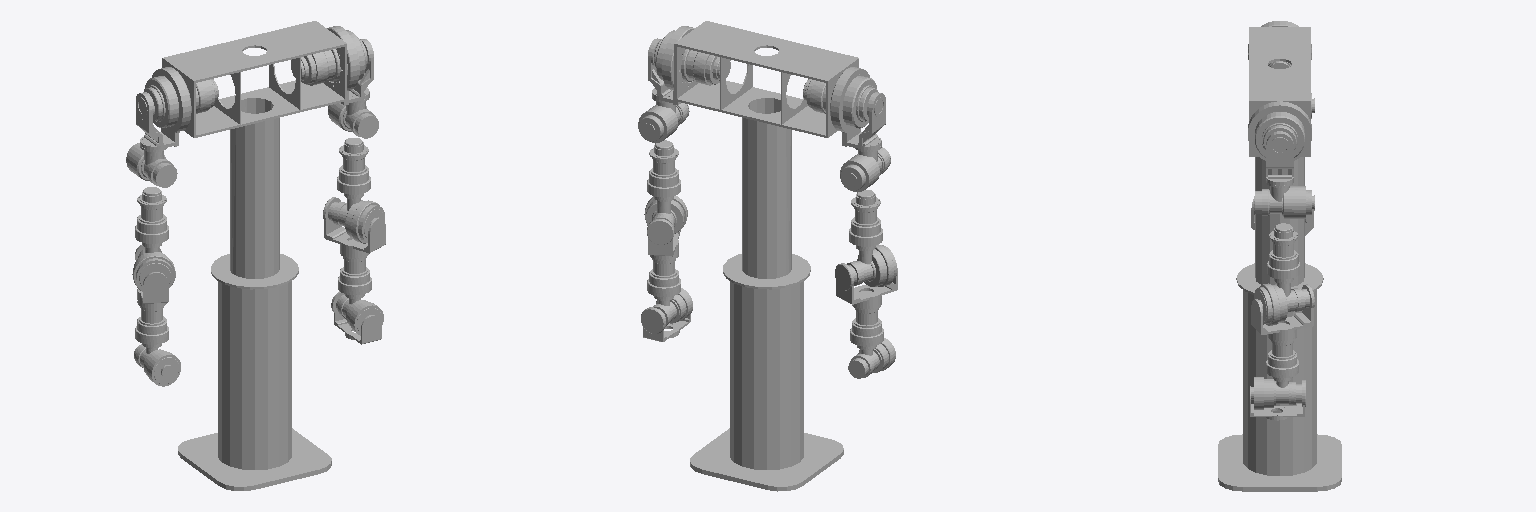
robot.urdf — aidplus:
<robot
  name="aidplus">
  <link name="base_Link">
    <inertial>
      <origin
        xyz="-0.065339 -1.9234E-15 0.93756"
        rpy="0 0 0" />
      <mass
        value="37.032" />
      <inertia
        ixx="14.546"
        ixy="-2.0675E-14"
        ixz="1.736"
        iyy="15.487"
        iyz="5.0978E-14"
        izz="1.5176" />
    </inertial>
    <visual>
      <origin
        xyz="0 0 0"
        rpy="0 0 0" />
      <geometry>
        <mesh
          filename="package://aidplus/meshes/L0.STL" />
      </geometry>
      <material
        name="">
        <color
          rgba="0.752941176470588 0.752941176470588 0.752941176470588 1" />
      </material>
    </visual>
    <collision>
      <origin
        xyz="0 0 0"
        rpy="0 0 0" />
      <geometry>
        <mesh
          filename="package://aidplus/meshes/L0.STL" />
      </geometry>
    </collision>
  </link>
  <link
    name="left_bigarm_Link">
    <inertial>
      <origin
        xyz="0.01517 -0.19923 -0.016519"
        rpy="0 0 0" />
      <mass
        value="38.9" />
      <inertia
        ixx="0.69607"
        ixy="-0.10626"
        ixz="-0.0097479"
        iyy="0.23375"
        iyz="-0.048863"
        izz="0.59973" />
    </inertial>
    <visual>
      <origin
        xyz="0 0 0"
        rpy="0 0 0" />
      <geometry>
        <mesh
          filename="package://aidplus/meshes/LL1.STL" />
      </geometry>
      <material
        name="">
        <color
          rgba="0.752941176470588 0.752941176470588 0.752941176470588 1" />
      </material>
    </visual>
    <collision>
      <origin
        xyz="0 0 0"
        rpy="0 0 0" />
      <geometry>
        <mesh
          filename="package://aidplus/meshes/LL1.STL" />
      </geometry>
    </collision>
  </link>
  <joint
    name="left_shoulder_joint"
    type="revolute">
    <origin
      xyz="-0.4605 0 1.655"
      rpy="1.5708 0 0" />
    <parent
      link="base_Link" />
    <child
      link="left_bigarm_Link" />
    <axis
      xyz="1 0 0" />
    <limit
      lower="-3.14159"
      upper="3.14159"
      effort="200"
      velocity="3.1416" />
  </joint>
  <link
    name="left_elbow_Link">
    <inertial>
      <origin
        xyz="1.6653E-16 -0.064421 0.015667"
        rpy="0 0 0" />
      <mass
        value="11.18" />
      <inertia
        ixx="0.14822"
        ixy="8.3834E-17"
        ixz="7.8495E-18"
        iyy="0.12818"
        iyz="-0.012852"
        izz="0.044066" />
    </inertial>
    <visual>
      <origin
        xyz="0 0 0"
        rpy="0 0 0" />
      <geometry>
        <mesh
          filename="package://aidplus/meshes/LL2.STL" />
      </geometry>
      <material
        name="">
        <color
          rgba="0.752941176470588 0.752941176470588 0.752941176470588 1" />
      </material>
    </visual>
    <collision>
      <origin
        xyz="0 0 0"
        rpy="0 0 0" />
      <geometry>
        <mesh
          filename="package://aidplus/meshes/LL2.STL" />
      </geometry>
    </collision>
  </link>
  <joint
    name="left_bigarm_joint"
    type="revolute">
    <origin
      xyz="0 -0.275 -0.015"
      rpy="0 0 0" />
    <parent
      link="left_bigarm_Link" />
    <child
      link="left_elbow_Link" />
    <axis
      xyz="0 0 1" />
    <limit
      lower="-3.14159"
      upper="3.14159"
      effort="200"
      velocity="3.1416" />
  </joint>
  <link
    name="left_forearm_Link">
    <inertial>
      <origin
        xyz="0.0061768 0.014912 0.020282"
        rpy="0 0 0" />
      <mass
        value="16.17" />
      <inertia
        ixx="0.232059974154934"
        ixy="-0.005837242059444"
        ixz="-0.008987732435557"
        iyy="0.220384023668639"
        iyz="-0.021698571720057"
        izz="0.049915146568727" />
    </inertial>
    <visual>
      <origin
        xyz="0 0 0"
        rpy="0 0 0" />
      <geometry>
        <mesh
          filename="package://aidplus/meshes/LL3.STL" />
      </geometry>
      <material
        name="">
        <color
          rgba="0.752941176470588 0.752941176470588 0.752941176470588 1" />
      </material>
    </visual>
    <collision>
      <origin
        xyz="0 0 0"
        rpy="0 0 0" />
      <geometry>
        <mesh
          filename="package://aidplus/meshes/LL3.STL" />
      </geometry>
    </collision>
  </link>
  <joint
    name="left_elbow_joint"
    type="revolute">
    <origin
      xyz="0 -0.332 0"
      rpy="1.5707963267949 -0.78539816339746 0" />
    <parent
      link="left_elbow_Link" />
    <child
      link="left_forearm_Link" />
    <axis
      xyz="0 0 -1" />
    <limit
      lower="-3.14159"
      upper="3.14159"
      effort="200"
      velocity="3.1416" />
  </joint>
  <link
    name="left_wrist1_Link">
    <inertial>
      <origin
        xyz="-3.3307E-15 -0.071299 -0.012584"
        rpy="0 0 0" />
      <mass
        value="10.14" />
      <inertia
        ixx="0.10127"
        ixy="1.077E-15"
        ixz="-2.5356E-15"
        iyy="0.08693"
        iyz="0.010069"
        izz="0.034066" />
    </inertial>
    <visual>
      <origin
        xyz="0 0 0"
        rpy="0 0 0" />
      <geometry>
        <mesh
          filename="package://aidplus/meshes/LL4.STL" />
      </geometry>
      <material
        name="">
        <color
          rgba="0.752941176470588 0.752941176470588 0.752941176470588 1" />
      </material>
    </visual>
    <collision>
      <origin
        xyz="0 0 0"
        rpy="0 0 0" />
      <geometry>
        <mesh
          filename="package://aidplus/meshes/LL4.STL" />
      </geometry>
    </collision>
  </link>
  <joint
    name="left_wrist1_joint"
    type="revolute">
    <origin
      xyz="0.0019134 0.0046194 0.11"
      rpy="-1.5708 0 -0.3927" />
    <parent
      link="left_forearm_Link" />
    <child
      link="left_wrist1_Link" />
    <axis
      xyz="0 0 1" />
    <limit
      lower="-3.14159"
      upper="3.14159"
      effort="200"
      velocity="3.1416" />
  </joint>
  <link
    name="left_wrist2_Link">
    <inertial>
      <origin
        xyz="0.0071606 -0.17208 0.017287"
        rpy="0 0 0" />
      <mass
        value="10.91" />
      <inertia
        ixx="0.124071088191495"
        ixy="0.006790844685897"
        ixz="-0.005624086647179"
        iyy="0.033104277204787"
        iyz="0.016394484860184"
        izz="0.112821711433457" />
    </inertial>
    <visual>
      <origin
        xyz="0 0 0"
        rpy="0 0 0" />
      <geometry>
        <mesh
          filename="package://aidplus/meshes/LL5.STL" />
      </geometry>
      <material
        name="">
        <color
          rgba="0.752941176470588 0.752941176470588 0.752941176470588 1" />
      </material>
    </visual>
    <collision>
      <origin
        xyz="0 0 0"
        rpy="0 0 0" />
      <geometry>
        <mesh
          filename="package://aidplus/meshes/LL5.STL" />
      </geometry>
    </collision>
  </link>
  <joint
    name="left_wrist2_joint"
    type="revolute">
    <origin
      xyz="0 -0.145 0"
      rpy="0 -8.6098E-14 0" />
    <parent
      link="left_wrist1_Link" />
    <child
      link="left_wrist2_Link" />
    <axis
      xyz="0 1 0" />
    <limit
      lower="-3.14159"
      upper="3.14159"
      effort="200"
      velocity="3.1416" />
  </joint>
  <link
    name="left_palm_Link">
    <inertial>
      <origin
        xyz="-0.024868 -0.0455 -4.6629E-15"
        rpy="0 0 0" />
      <mass
        value="5.91" />
      <inertia
        ixx="0.014677242234883"
        ixy="0.006892601314097"
        ixz="-8.11009281382099E-15"
        iyy="0.050065553207131"
        iyz="-4.66386004410954E-15"
        izz="0.05589707544569" />
    </inertial>
    <visual>
      <origin
        xyz="0 0 0"
        rpy="0 0 0" />
      <geometry>
        <mesh
          filename="package://aidplus/meshes/LL6.STL" />
      </geometry>
      <material
        name="">
        <color
          rgba="0.752941176470588 0.752941176470588 0.752941176470588 1" />
      </material>
    </visual>
    <collision>
      <origin
        xyz="0 0 0"
        rpy="0 0 0" />
      <geometry>
        <mesh
          filename="package://aidplus/meshes/LL6.STL" />
      </geometry>
    </collision>
  </link>
  <joint
    name="left_palm_joint"
    type="revolute">
    <origin
      xyz="0.0082277 -0.259 0.019863"
      rpy="0 -1.1781 0" />
    <parent
      link="left_wrist2_Link" />
    <child
      link="left_palm_Link" />
    <axis
      xyz="1 0 0" />
    <limit
      lower="-3.14159"
      upper="3.14159"
      effort="200"
      velocity="3.1416" />
  </joint>
  <link
    name="right_bigarm_Link">
    <inertial>
      <origin
        xyz="0.01517 -0.19923 -0.016519"
        rpy="0 0 0" />
      <mass
        value="38.9" />
      <inertia
        ixx="0.69607"
        ixy="-0.10626"
        ixz="-0.0097479"
        iyy="0.23375"
        iyz="-0.048863"
        izz="0.59973" />
    </inertial>
    <visual>
      <origin
        xyz="0 0 0"
        rpy="0 0 0" />
      <geometry>
        <mesh
          filename="package://aidplus/meshes/LR1.STL" />
      </geometry>
      <material
        name="">
        <color
          rgba="0.752941176470588 0.752941176470588 0.752941176470588 1" />
      </material>
    </visual>
    <collision>
      <origin
        xyz="0 0 0"
        rpy="0 0 0" />
      <geometry>
        <mesh
          filename="package://aidplus/meshes/LR1.STL" />
      </geometry>
    </collision>
  </link>
  <joint
    name="right_shoulder_joint"
    type="revolute">
    <origin
      xyz="0.4605 0 1.655"
      rpy="1.5708 0 3.1416" />
    <parent
      link="base_Link" />
    <child
      link="right_bigarm_Link" />
    <axis
      xyz="-1 0 0" />
    <limit
      lower="-3.14159"
      upper="3.14159"
      effort="200"
      velocity="3.1416" />
  </joint>
  <link
    name="right_elbow_Link">
    <inertial>
      <origin
        xyz="1.6653E-16 -0.064421 0.015667"
        rpy="0 0 0" />
      <mass
        value="11.18" />
      <inertia
        ixx="0.14822"
        ixy="8.3834E-17"
        ixz="7.8495E-18"
        iyy="0.12818"
        iyz="-0.012852"
        izz="0.044066" />
    </inertial>
    <visual>
      <origin
        xyz="0 0 0"
        rpy="0 0 0" />
      <geometry>
        <mesh
          filename="package://aidplus/meshes/LR2.STL" />
      </geometry>
      <material
        name="">
        <color
          rgba="0.752941176470588 0.752941176470588 0.752941176470588 1" />
      </material>
    </visual>
    <collision>
      <origin
        xyz="0 0 0"
        rpy="0 0 0" />
      <geometry>
        <mesh
          filename="package://aidplus/meshes/LR2.STL" />
      </geometry>
    </collision>
  </link>
  <joint
    name="right_bigarm_joint"
    type="revolute">
    <origin
      xyz="0 -0.275 0.015"
      rpy="3.1416 0 3.1416" />
    <parent
      link="right_bigarm_Link" />
    <child
      link="right_elbow_Link" />
    <axis
      xyz="0 0 1" />
    <limit
      lower="-3.14159"
      upper="3.14159"
      effort="200"
      velocity="3.1416" />
  </joint>
  <link
    name="right_forearm_Link">
    <inertial>
      <origin
        xyz="0.0061768 0.014912 0.020282"
        rpy="0 0 0" />
      <mass
        value="16.17" />
      <inertia
        ixx="0.232059974154934"
        ixy="-0.005837242059444"
        ixz="-0.008987732435557"
        iyy="0.220384023668639"
        iyz="-0.021698571720057"
        izz="0.049915146568727" />
    </inertial>
    <visual>
      <origin
        xyz="0 0 0"
        rpy="0 0 0" />
      <geometry>
        <mesh
          filename="package://aidplus/meshes/LR3.STL" />
      </geometry>
      <material
        name="">
        <color
          rgba="0.752941176470588 0.752941176470588 0.752941176470588 1" />
      </material>
    </visual>
    <collision>
      <origin
        xyz="0 0 0"
        rpy="0 0 0" />
      <geometry>
        <mesh
          filename="package://aidplus/meshes/LR3.STL" />
      </geometry>
    </collision>
  </link>
  <joint
    name="right_elbow_joint"
    type="revolute">
    <origin
      xyz="0 -0.332 0"
      rpy="-1.5708 -0.7854 3.1416" />
    <parent
      link="right_elbow_Link" />
    <child
      link="right_forearm_Link" />
    <axis
      xyz="0 0 -1" />
    <limit
      lower="-3.14159"
      upper="3.14159"
      effort="200"
      velocity="3.1416" />
  </joint>
  <link
    name="right_wrist1_Link">
    <inertial>
      <origin
        xyz="-3.3307E-15 -0.071299 -0.012584"
        rpy="0 0 0" />
      <mass
        value="10.14" />
      <inertia
        ixx="0.10127"
        ixy="1.077E-15"
        ixz="-2.5356E-15"
        iyy="0.08693"
        iyz="0.010069"
        izz="0.034066" />
    </inertial>
    <visual>
      <origin
        xyz="0 0 0"
        rpy="0 0 0" />
      <geometry>
        <mesh
          filename="package://aidplus/meshes/LR4.STL" />
      </geometry>
      <material
        name="">
        <color
          rgba="0.752941176470588 0.752941176470588 0.752941176470588 1" />
      </material>
    </visual>
    <collision>
      <origin
        xyz="0 0 0"
        rpy="0 0 0" />
      <geometry>
        <mesh
          filename="package://aidplus/meshes/LR4.STL" />
      </geometry>
    </collision>
  </link>
  <joint
    name="right_wrist1_joint"
    type="revolute">
    <origin
      xyz="0.0019134 -0.0046194 0.11"
      rpy="-1.5708 0 -2.7489" />
    <parent
      link="right_forearm_Link" />
    <child
      link="right_wrist1_Link" />
    <axis
      xyz="0 0 1" />
    <limit
      lower="-3.14159"
      upper="3.14159"
      effort="200"
      velocity="3.1416" />
  </joint>
  <link
    name="right_wrist2_Link">
    <inertial>
      <origin
        xyz="0.0071606 -0.17208 0.017287"
        rpy="0 0 0" />
      <mass
        value="10.91" />
      <inertia
        ixx="0.124071088191495"
        ixy="0.006790844685897"
        ixz="-0.005624086647179"
        iyy="0.033104277204787"
        iyz="0.016394484860184"
        izz="0.112821711433457" />
    </inertial>
    <visual>
      <origin
        xyz="0 0 0"
        rpy="0 0 0" />
      <geometry>
        <mesh
          filename="package://aidplus/meshes/LR5.STL" />
      </geometry>
      <material
        name="">
        <color
          rgba="0.752941176470588 0.752941176470588 0.752941176470588 1" />
      </material>
    </visual>
    <collision>
      <origin
        xyz="0 0 0"
        rpy="0 0 0" />
      <geometry>
        <mesh
          filename="package://aidplus/meshes/LR5.STL" />
      </geometry>
    </collision>
  </link>
  <joint
    name="right_wrist2_joint"
    type="revolute">
    <origin
      xyz="0 -0.145 0"
      rpy="0 8.6098E-14 0" />
    <parent
      link="right_wrist1_Link" />
    <child
      link="right_wrist2_Link" />
    <axis
      xyz="0 1 0" />
    <limit
      lower="-3.14159"
      upper="3.14159"
      effort="200"
      velocity="3.1416" />
  </joint>
  <link
    name="right_palm_Link">
    <inertial>
      <origin
        xyz="-0.024868 -0.0455 -4.6629E-15"
        rpy="0 0 0" />
      <mass
        value="5.91" />
      <inertia
        ixx="0.014677242234883"
        ixy="0.006892601314097"
        ixz="-8.11009281382099E-15"
        iyy="0.050065553207131"
        iyz="-4.66386004410954E-15"
        izz="0.05589707544569" />
    </inertial>
    <visual>
      <origin
        xyz="0 0 0"
        rpy="0 0 0" />
      <geometry>
        <mesh
          filename="package://aidplus/meshes/LR6.STL" />
      </geometry>
      <material
        name="">
        <color
          rgba="0.752941176470588 0.752941176470588 0.752941176470588 1" />
      </material>
    </visual>
    <collision>
      <origin
        xyz="0 0 0"
        rpy="0 0 0" />
      <geometry>
        <mesh
          filename="package://aidplus/meshes/LR6.STL" />
      </geometry>
    </collision>
  </link>
  <joint
    name="right_palm_joint"
    type="revolute">
    <origin
      xyz="-0.0082277 -0.259 0.019863"
      rpy="3.1416 -1.1781 3.1416" />
    <parent
      link="right_wrist2_Link" />
    <child
      link="right_palm_Link" />
    <axis
      xyz="1 0 0" />
    <limit
      lower="-3.14159"
      upper="3.14159"
      effort="200"
      velocity="3.1416" />
  </joint>
  <link name="world"/>
  <joint
    name="virtual_robot_mount_joint"
    type="fixed">
    <origin
      xyz="0.00 0.0 0.0"
      rpy="0 0 0" />
    <parent
      link="world" />
    <child
      link="base_Link" />
  </joint>

  <link name="left_ee_Link"/>
  <joint
    name="virtual_left_ee_mount_joint"
    type="fixed">
    <origin
      xyz="0.00 -0.097 0.0"
      rpy="0 0 0" />
    <parent
      link="left_palm_Link" />
    <child
      link="left_ee_Link" />
  </joint>
  <link name="right_ee_Link"/>
  <joint
    name="virtual_right_ee_mount_joint"
    type="fixed">
    <origin
      xyz="0.00 -0.097 0.0"
      rpy="0 0 0" />
    <parent
      link="right_palm_Link" />
    <child
      link="right_ee_Link" />
  </joint>
  <!--////////////////////////////////// Transmissions for ROS Control //////////////////////////-->
  <transmission name="left_shoulder_joint_trans">
    <type>transmission_interface/SimpleTransmission</type>
    <joint name="left_shoulder_joint">
      <hardwareInterface>hardware_interface/PositionJointInterface</hardwareInterface>
    </joint>
    <actuator name="left_shoulder_joint_motor">
      <mechanicalReduction>1</mechanicalReduction>
    </actuator>
  </transmission>
  <transmission name="left_bigarm_joint_trans">
    <type>transmission_interface/SimpleTransmission</type>
    <joint name="left_bigarm_joint">
      <hardwareInterface>hardware_interface/PositionJointInterface</hardwareInterface>
    </joint>
    <actuator name="left_bigarm_joint_motor">
      <mechanicalReduction>1</mechanicalReduction>
    </actuator>
  </transmission>
  <transmission name="left_elbow_joint_trans">
    <type>transmission_interface/SimpleTransmission</type>
    <joint name="left_elbow_joint">
      <hardwareInterface>hardware_interface/PositionJointInterface</hardwareInterface>
    </joint>
    <actuator name="left_elbow_joint_motor">
      <mechanicalReduction>1</mechanicalReduction>
    </actuator>
  </transmission>
  <transmission name="left_wrist1_joint_trans">
    <type>transmission_interface/SimpleTransmission</type>
    <joint name="left_wrist1_joint">
      <hardwareInterface>hardware_interface/PositionJointInterface</hardwareInterface>
    </joint>
    <actuator name="left_wrist1_joint_motor">
      <mechanicalReduction>1</mechanicalReduction>
    </actuator>
  </transmission>
  <transmission name="left_wrist2_joint_trans">
    <type>transmission_interface/SimpleTransmission</type>
    <joint name="left_wrist2_joint">
      <hardwareInterface>hardware_interface/PositionJointInterface</hardwareInterface>
    </joint>
    <actuator name="left_wrist2_joint_motor">
      <mechanicalReduction>1</mechanicalReduction>
    </actuator>
  </transmission>
  <transmission name="left_palm_joint_trans">
    <type>transmission_interface/SimpleTransmission</type>
    <joint name="left_palm_joint">
      <hardwareInterface>hardware_interface/PositionJointInterface</hardwareInterface>
    </joint>
    <actuator name="left_palm_joint_motor">
      <mechanicalReduction>1</mechanicalReduction>
    </actuator>
  </transmission>

<transmission name="right_shoulder_joint_trans">
    <type>transmission_interface/SimpleTransmission</type>
    <joint name="right_shoulder_joint">
      <hardwareInterface>hardware_interface/PositionJointInterface</hardwareInterface>
    </joint>
    <actuator name="right_shoulder_joint_motor">
      <mechanicalReduction>1</mechanicalReduction>
    </actuator>
  </transmission>
  <transmission name="right_bigarm_joint_trans">
    <type>transmission_interface/SimpleTransmission</type>
    <joint name="right_bigarm_joint">
      <hardwareInterface>hardware_interface/PositionJointInterface</hardwareInterface>
    </joint>
    <actuator name="right_bigarm_joint_motor">
      <mechanicalReduction>1</mechanicalReduction>
    </actuator>
  </transmission>
  <transmission name="right_elbow_joint_trans">
    <type>transmission_interface/SimpleTransmission</type>
    <joint name="right_elbow_joint">
      <hardwareInterface>hardware_interface/PositionJointInterface</hardwareInterface>
    </joint>
    <actuator name="right_elbow_joint_motor">
      <mechanicalReduction>1</mechanicalReduction>
    </actuator>
  </transmission>
  <transmission name="right_wrist1_joint_trans">
    <type>transmission_interface/SimpleTransmission</type>
    <joint name="right_wrist1_joint">
      <hardwareInterface>hardware_interface/PositionJointInterface</hardwareInterface>
    </joint>
    <actuator name="right_wrist1_joint_motor">
      <mechanicalReduction>1</mechanicalReduction>
    </actuator>
  </transmission>
  <transmission name="right_wrist2_joint_trans">
    <type>transmission_interface/SimpleTransmission</type>
    <joint name="right_wrist2_joint">
      <hardwareInterface>hardware_interface/PositionJointInterface</hardwareInterface>
    </joint>
    <actuator name="right_wrist2_joint_motor">
      <mechanicalReduction>1</mechanicalReduction>
    </actuator>
  </transmission>
  <transmission name="right_palm_joint_trans">
    <type>transmission_interface/SimpleTransmission</type>
    <joint name="right_palm_joint">
      <hardwareInterface>hardware_interface/PositionJointInterface</hardwareInterface>
    </joint>
    <actuator name="right_palm_joint_motor">
      <mechanicalReduction>1</mechanicalReduction>
    </actuator>
  </transmission>

  <!-- ros_control plugin -->
  <gazebo>
    <plugin filename="libgazebo_ros_control.so" name="gazebo_ros_control">
      <robotNamespace>/aidplus</robotNamespace>
      <robotSimType>gazebo_ros_control/DefaultRobotHWSim</robotSimType>
      <legacyModeNS>true</legacyModeNS>
    </plugin>
  </gazebo>
</robot>

--- What the picture shows (computed from the rendered views, not written in the file) ---
The picture shows the robot from 3 angles, left to right: view 1: azimuth 30°, elevation 25°; view 2: azimuth 150°, elevation 25°; view 3: azimuth 270°, elevation 25°; orthographic projection.
Model aidplus with 16 links and 15 joints (12 revolute, 3 fixed), rooted at world, posed all joints at 0.
Links seen in each view (by area): view 1: base_Link, left_bigarm_Link, right_forearm_Link, left_forearm_Link, right_bigarm_Link, left_wrist2_Link, right_wrist2_Link, right_wrist1_Link, left_wrist1_Link, right_palm_Link; view 2: base_Link, left_bigarm_Link, left_forearm_Link, right_bigarm_Link, right_forearm_Link, left_wrist2_Link, right_wrist2_Link, left_wrist1_Link, right_wrist1_Link, right_palm_Link; view 3: base_Link, right_bigarm_Link, right_forearm_Link, right_wrist2_Link, right_wrist1_Link, right_palm_Link.
Link boxes in pixels (box(x1,y1,x2,y2)): base_Link: box(136, 21, 373, 490); left_bigarm_Link: box(126, 67, 191, 187); right_forearm_Link: box(328, 138, 384, 243); left_forearm_Link: box(132, 187, 175, 291); right_bigarm_Link: box(327, 26, 378, 138); left_wrist2_Link: box(134, 301, 180, 386); right_wrist2_Link: box(336, 239, 383, 335); right_wrist1_Link: box(323, 197, 385, 257); left_wrist1_Link: box(135, 245, 168, 306); right_palm_Link: box(331, 291, 381, 344); base_Link: box(648, 21, 885, 491); left_bigarm_Link: box(830, 67, 890, 191); left_forearm_Link: box(847, 190, 896, 286); right_bigarm_Link: box(638, 26, 694, 142); right_forearm_Link: box(644, 140, 687, 233); left_wrist2_Link: box(848, 291, 895, 378); right_wrist2_Link: box(647, 255, 692, 325); left_wrist1_Link: box(835, 263, 897, 308); right_wrist1_Link: box(647, 219, 680, 259); right_palm_Link: box(641, 307, 690, 341); base_Link: box(1218, 27, 1341, 491); right_bigarm_Link: box(1248, 101, 1314, 218); right_forearm_Link: box(1254, 223, 1309, 325); right_wrist2_Link: box(1251, 323, 1301, 409); right_wrist1_Link: box(1251, 284, 1314, 340); right_palm_Link: box(1250, 380, 1305, 420).
Bounding box of the posed robot: 1.14 × 0.5 × 1.78 m (x, y, z).
10 mesh visuals loaded from 13 distinct referenced files (10 binary STL); not drawn: 3 (reference not matched to a file when rendering).